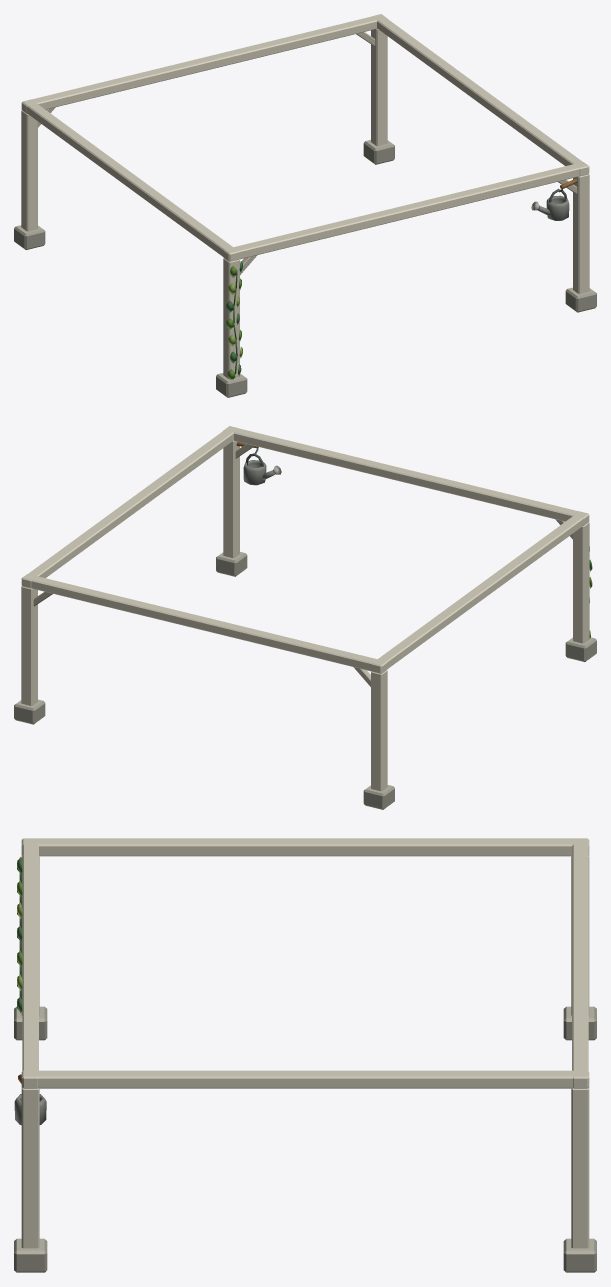
The model's file is greenhouse_base.glb.
The picture shows the model from 3 angles, top to bottom: view 1: azimuth 30°, elevation 25°; view 2: azimuth 150°, elevation 25°; view 3: azimuth 270°, elevation 25°; orthographic projection. The views are drawn at different scales.
Visible parts, largest first — view 1: greenhouse_base; view 2: greenhouse_base; view 3: greenhouse_base.
Part boxes in pixels (x1=…): greenhouse_base: x1=14, y1=14, x2=596, y2=397; greenhouse_base: x1=14, y1=426, x2=596, y2=809; greenhouse_base: x1=14, y1=838, x2=596, y2=1272.
Size of the model in its own units: 5.25 by 1.92 by 5.25.
